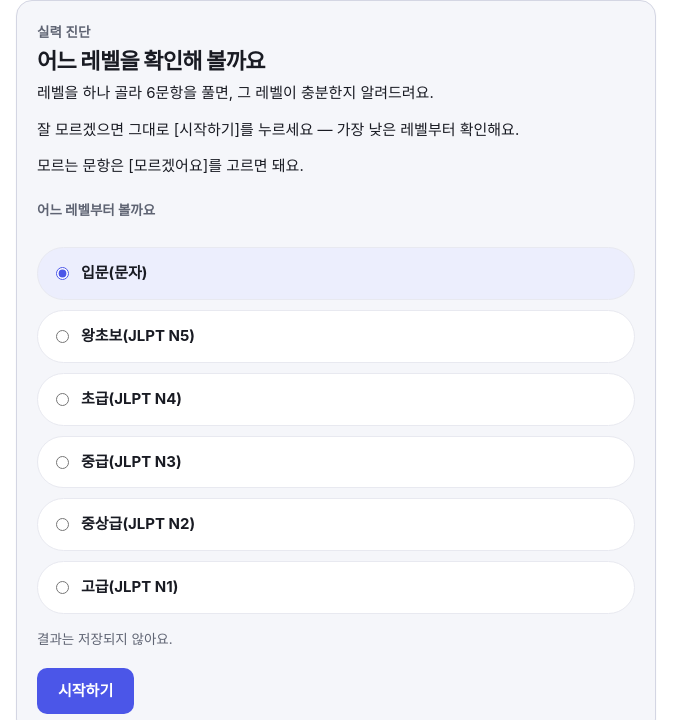
Test: 갈래 머리글 (A42·A43·A44) › 갈래 순서는 레벨이 바뀌어도 어휘가 먼저다 (A43)
The width and height of the screenshot is (673, 720).
Step 1. Click the radio button labelled "고급(JLPT N1)" → click(62, 588), box [56,581,69,594]
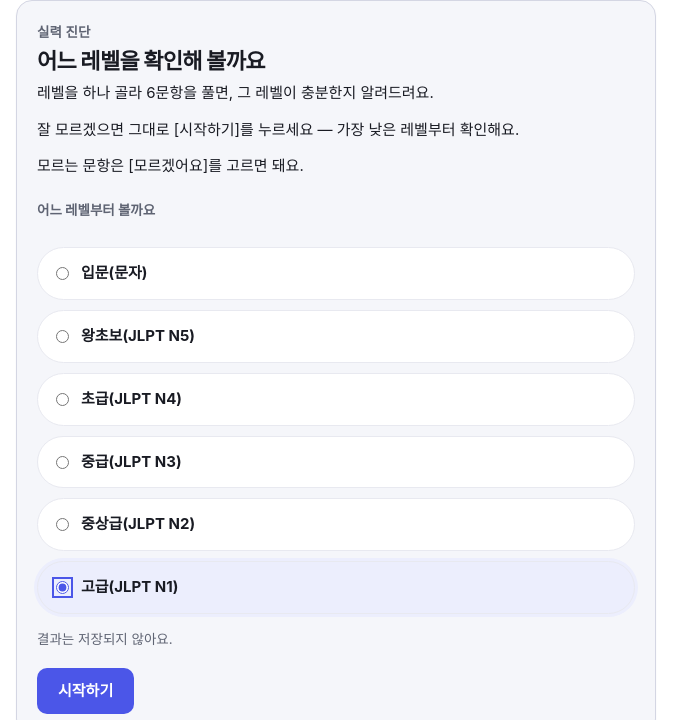
Step 2. Click the button "시작하기" → click(86, 691), box [37,668,134,714]
(page scrolled)
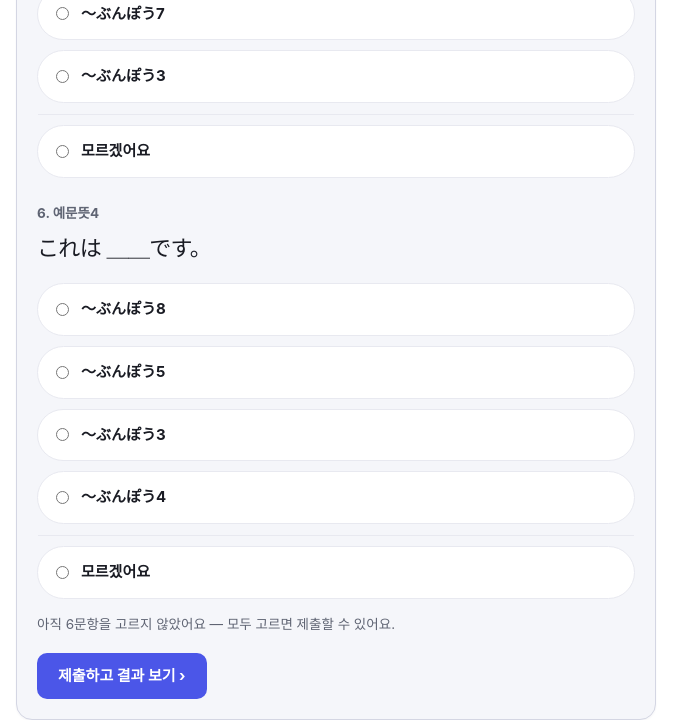
Expected: the button "제출하고 결과 보기 ›" is shown, [37,653,206,699]
